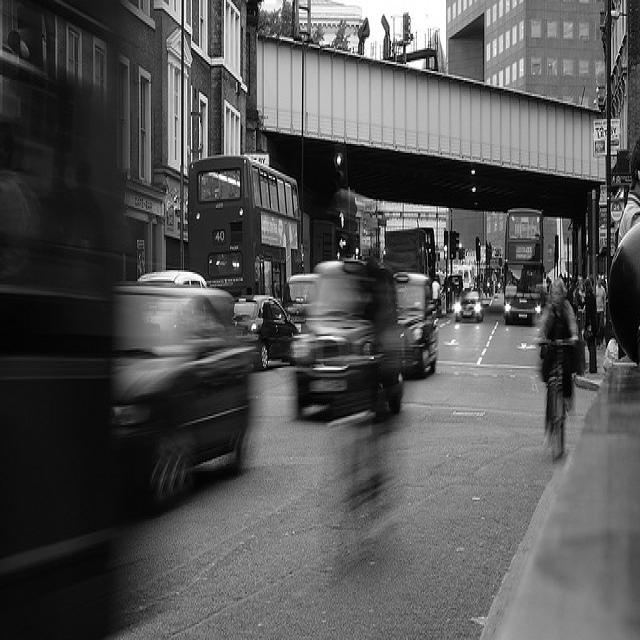Vehicle: (0, 44, 122, 598), (105, 283, 263, 507), (189, 158, 303, 308), (296, 262, 402, 420), (499, 210, 545, 327), (233, 295, 300, 368), (394, 272, 439, 380), (384, 228, 438, 276), (283, 274, 319, 332), (137, 270, 209, 287), (455, 290, 485, 323)
